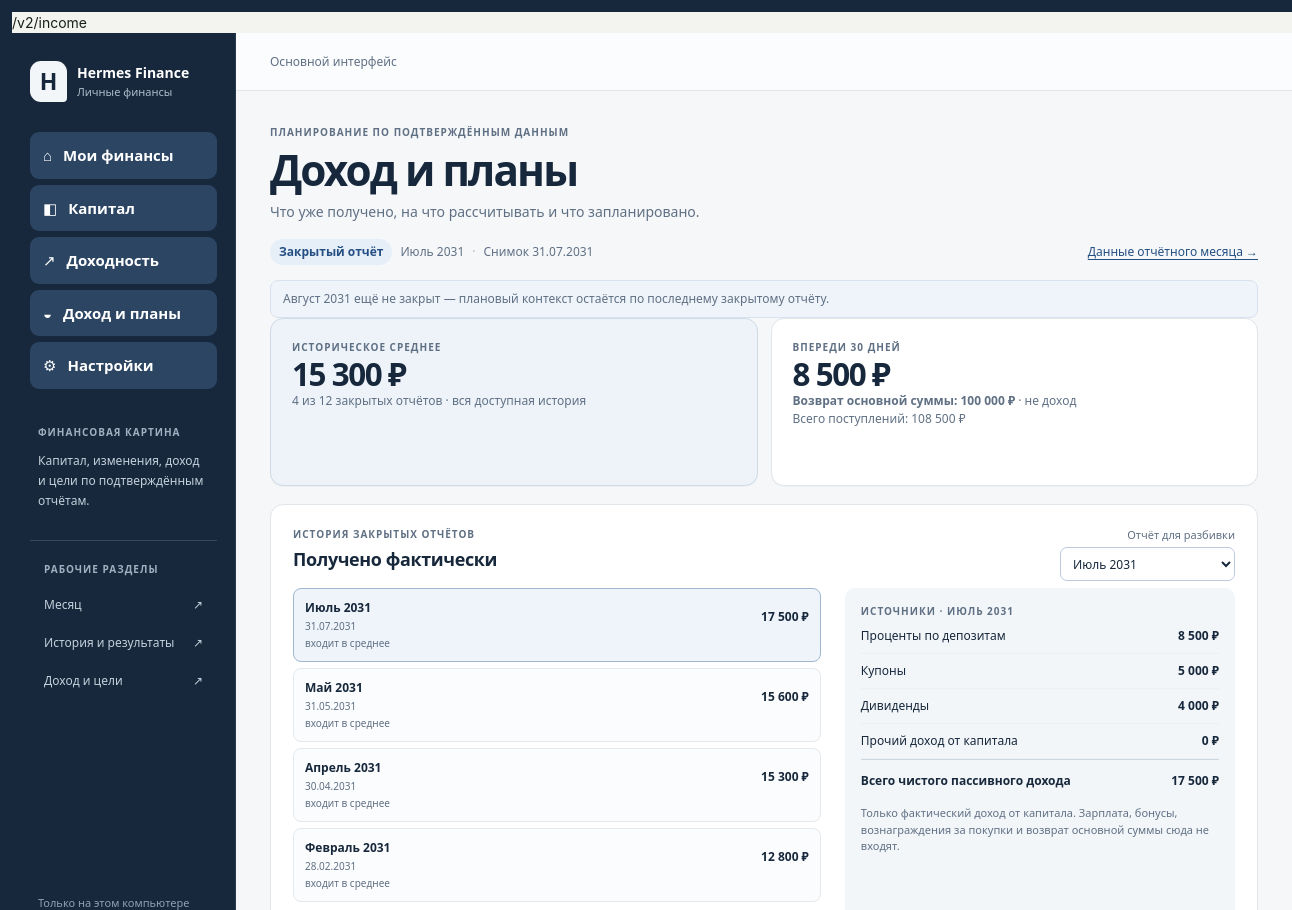
UI v2 Income and plans › keeps planning context on latest CLOSED while history selection changes the factual breakdown
Expected: the button with test id "income-history-91" is shown, [293,588,821,662]
Select "Май 2031" in the dropdown named "Отчёт для разбивки фактического дохода": (1148, 564) [1060,547,1235,581]
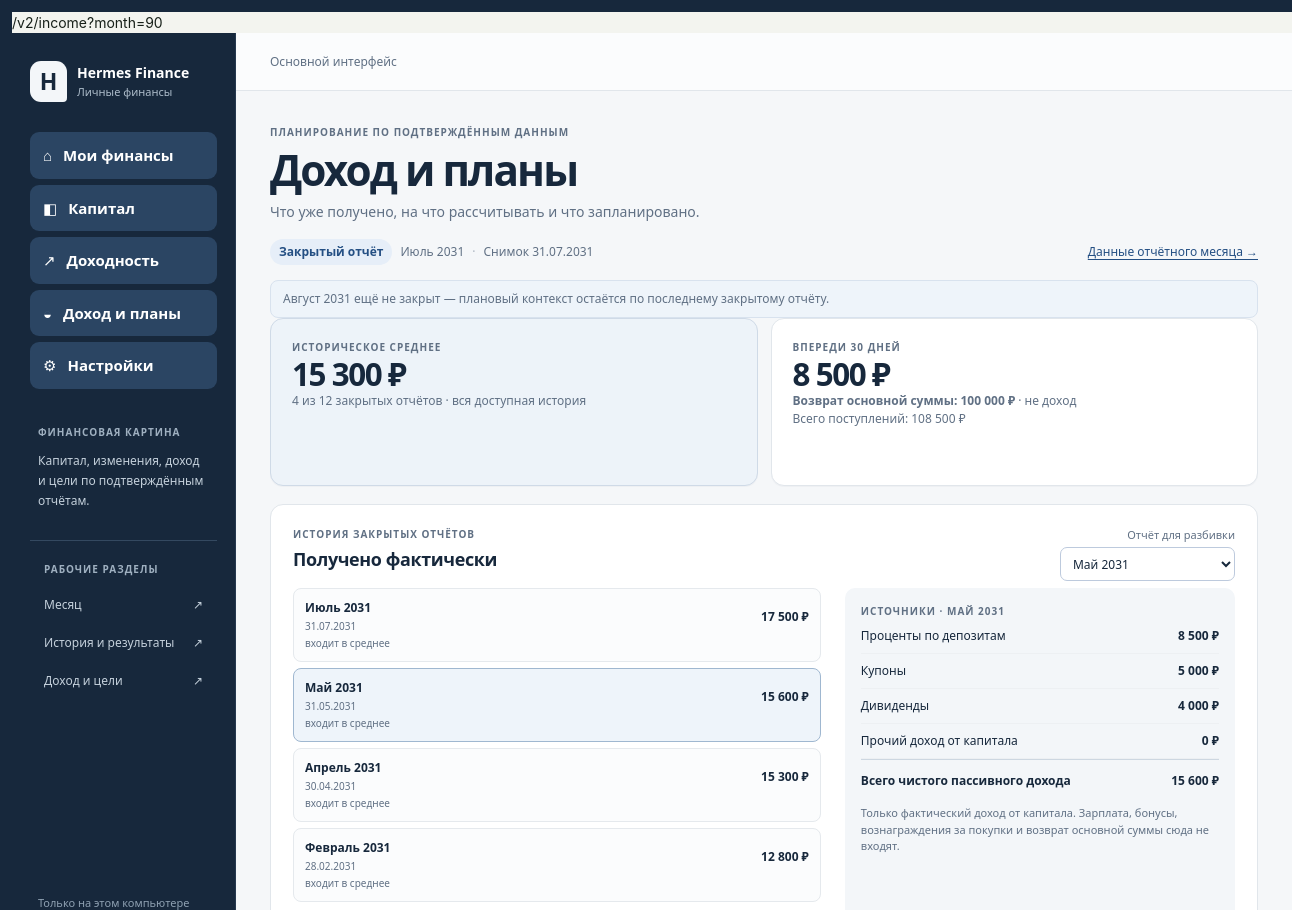
Expected: the text with test id "income-average" reads "15 300 ₽", [292,352,406,395]
Now the text with test id "test-location" reads "/v2/income?month=90", box [12,14,163,31]
